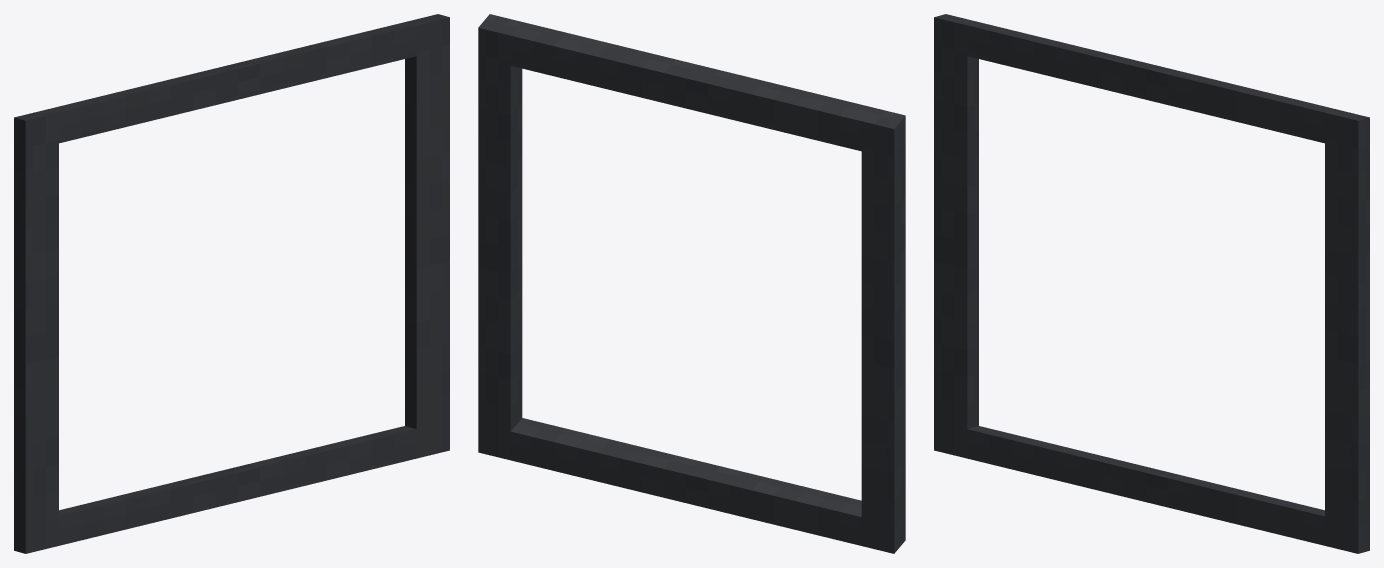
The model's file is airport_jet_bridge_slope_4_3_north.obj.
3 renders of one model, left to right at view 1: azimuth 30°, elevation 25°; view 2: azimuth 150°, elevation 25°; view 3: azimuth 330°, elevation 25°, orthographic.
Visible parts, largest first — view 1: airport_jet_bridge_slope_4_3_north; view 2: airport_jet_bridge_slope_4_3_north; view 3: airport_jet_bridge_slope_4_3_north.
Boxes of the visible parts, x1=… form: airport_jet_bridge_slope_4_3_north: x1=14, y1=14, x2=449, y2=553; airport_jet_bridge_slope_4_3_north: x1=478, y1=14, x2=905, y2=553; airport_jet_bridge_slope_4_3_north: x1=934, y1=14, x2=1369, y2=553.
Size of the model in its own units: 2.08 by 2.05 by 0.1.
